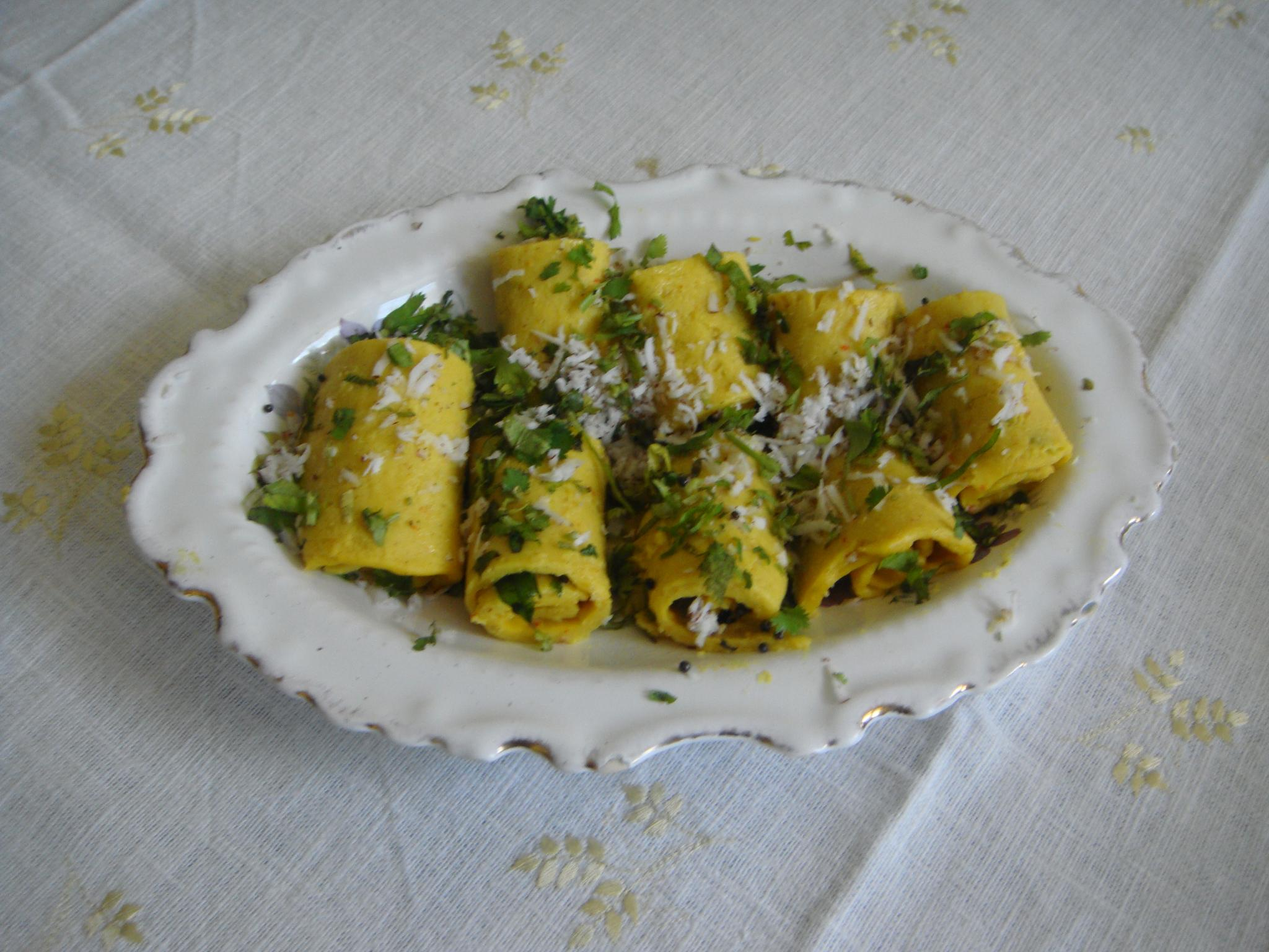khandvi: (285, 296, 1040, 623)
